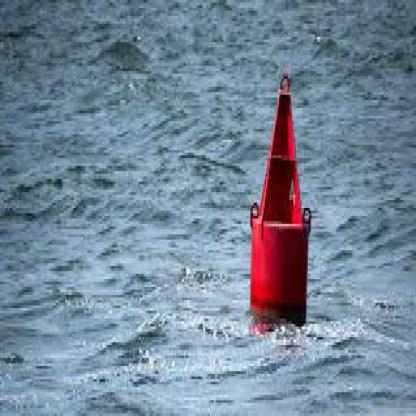buoy: (245, 58, 318, 326)
